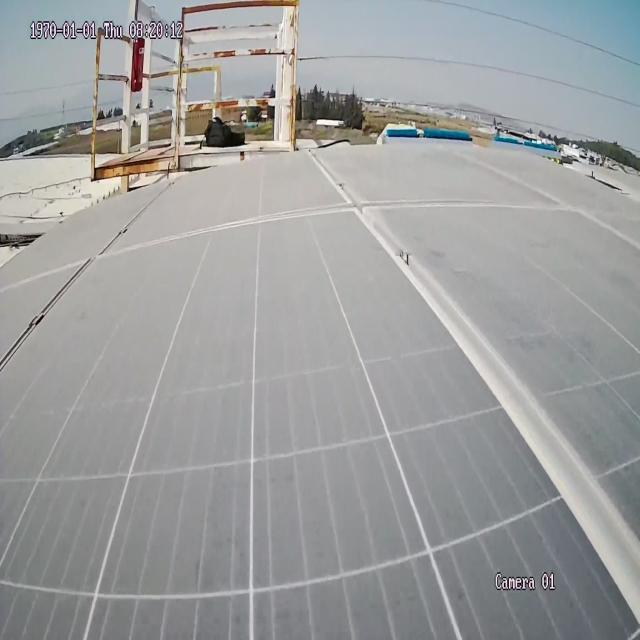interior panel: (308, 150, 640, 595), (0, 184, 177, 376)
